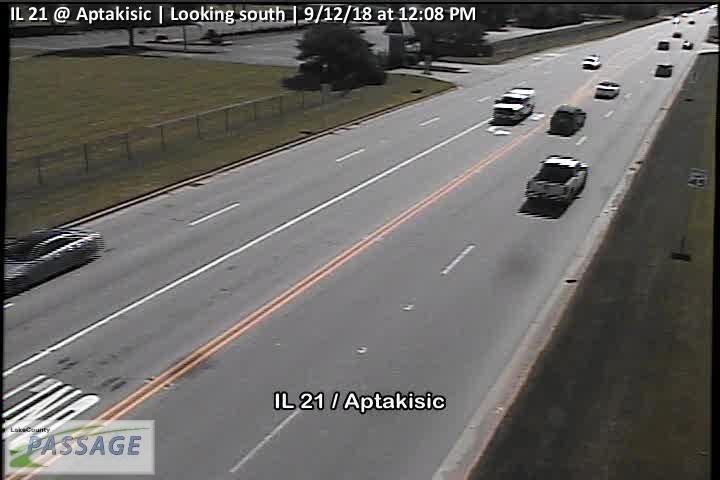Sedan: (3, 229, 105, 303), (548, 104, 588, 136), (595, 81, 620, 99), (583, 56, 600, 68)
Truck: (525, 155, 587, 204), (491, 87, 535, 123)
